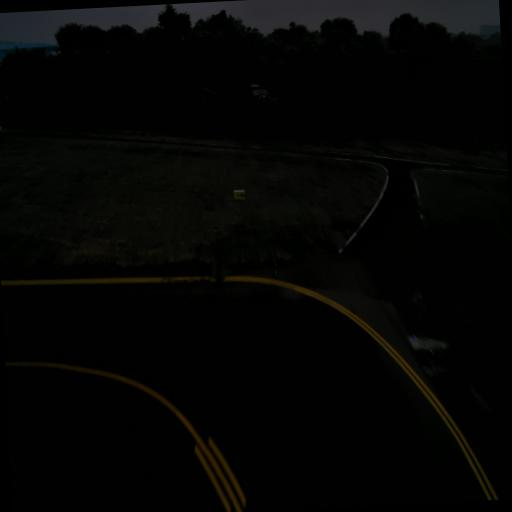on: (411, 331, 418, 344)
